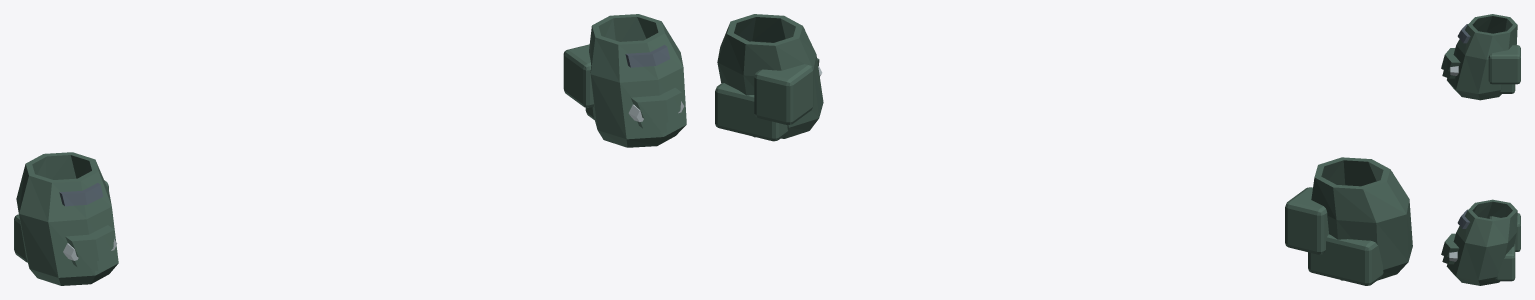
The model's file is studded_hands-male-scaledHide.glb.
3 renders of one model, left to right at view 1: azimuth 30°, elevation 25°; view 2: azimuth 150°, elevation 25°; view 3: azimuth 270°, elevation 25°, orthographic. The views are drawn at different scales.
Parts seen in each view (by area): view 1: Block hand armor -1, Block hand armor 1, Block thumb armor 1, Lapped hide reinforcement Block hand armor 1 0, Lapped hide reinforcement Block hand armor -1 0, Glove turned wrist seam 1, Glove turned wrist seam -1; view 2: Block hand armor -1, Block hand armor 1, Block thumb armor 1, Block hand curl armor -1, Block hand curl armor 1, Block thumb armor -1; view 3: Block hand armor 1, Block hand armor -1, Block thumb armor -1, Block hand curl armor 1, Lapped hide reinforcement Block hand armor -1 0, Lapped hide reinforcement Block hand armor 1 0, Block thumb armor 1, Block hand curl armor -1, Glove turned wrist seam -1, Glove turned wrist seam 1, Set rivet Block hand armor 1 1, Set rivet Block hand armor -1 1 (+2 smaller).
Boxes of the visible parts, x1,y1,x2,y2 form: Block hand armor -1: [16, 152, 118, 285]; Block hand armor 1: [589, 14, 686, 147]; Block thumb armor 1: [563, 44, 593, 107]; Lapped hide reinforcement Block hand armor 1 0: [631, 87, 681, 122]; Lapped hide reinforcement Block hand armor -1 0: [65, 225, 114, 261]; Glove turned wrist seam 1: [625, 45, 670, 67]; Glove turned wrist seam -1: [59, 183, 103, 206]; Block hand armor -1: [1311, 157, 1412, 280]; Block hand armor 1: [717, 14, 823, 138]; Block thumb armor 1: [754, 64, 813, 124]; Block hand curl armor -1: [1308, 234, 1383, 285]; Block hand curl armor 1: [715, 83, 787, 141]; Block thumb armor -1: [1285, 187, 1328, 254]; Block hand armor 1: [1446, 199, 1517, 285]; Block hand armor -1: [1447, 14, 1517, 100]; Block thumb armor -1: [1488, 45, 1520, 84]; Block hand curl armor 1: [1495, 244, 1515, 281]; Lapped hide reinforcement Block hand armor -1 0: [1441, 48, 1460, 71]; Lapped hide reinforcement Block hand armor 1 0: [1441, 233, 1459, 256]; Block thumb armor 1: [1488, 213, 1520, 251]; Block hand curl armor -1: [1499, 84, 1515, 93]; Glove turned wrist seam -1: [1457, 24, 1470, 43]; Glove turned wrist seam 1: [1457, 209, 1469, 228]; Set rivet Block hand armor 1 1: [1449, 251, 1457, 261]; Set rivet Block hand armor -1 1: [1450, 66, 1458, 75].
Size of the model in its own units: 3.76 by 0.52 by 0.5851.
